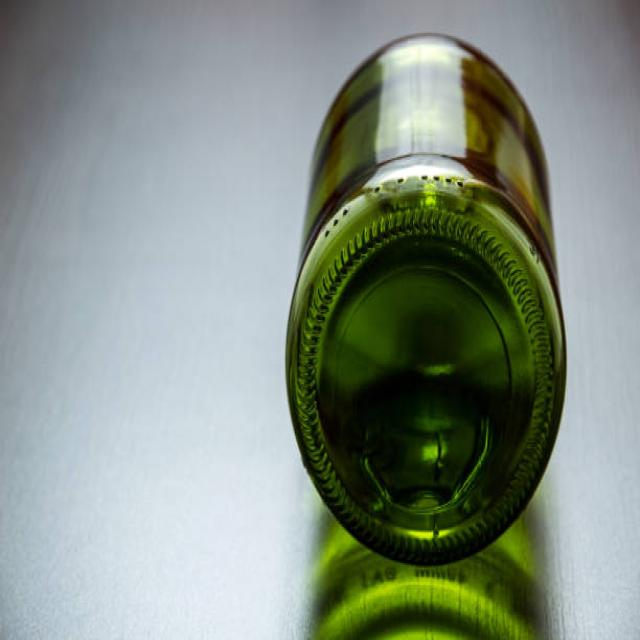electronic: (282, 25, 572, 573)
